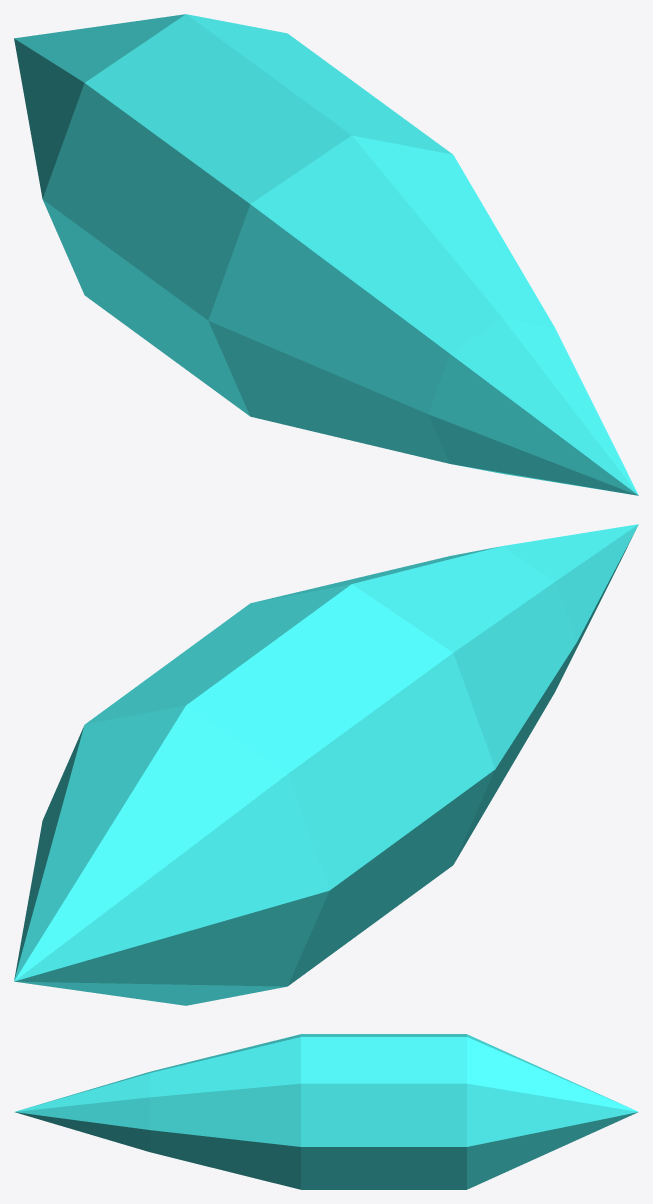
3 renders of one model, top to bottom at view 1: azimuth 30°, elevation 25°; view 2: azimuth 150°, elevation 25°; view 3: azimuth 270°, elevation 25°, orthographic. The views are drawn at different scales.
Visible parts, largest first — view 1: Shell; view 2: Shell; view 3: Shell.
Part boxes in pixels (x1,y1,x2,y2): Shell: [14, 14, 638, 495]; Shell: [14, 524, 638, 1005]; Shell: [15, 1034, 638, 1189].
Size of what is drawn, in the model's own units: 0.0485 by 0.1828 by 0.0485.
